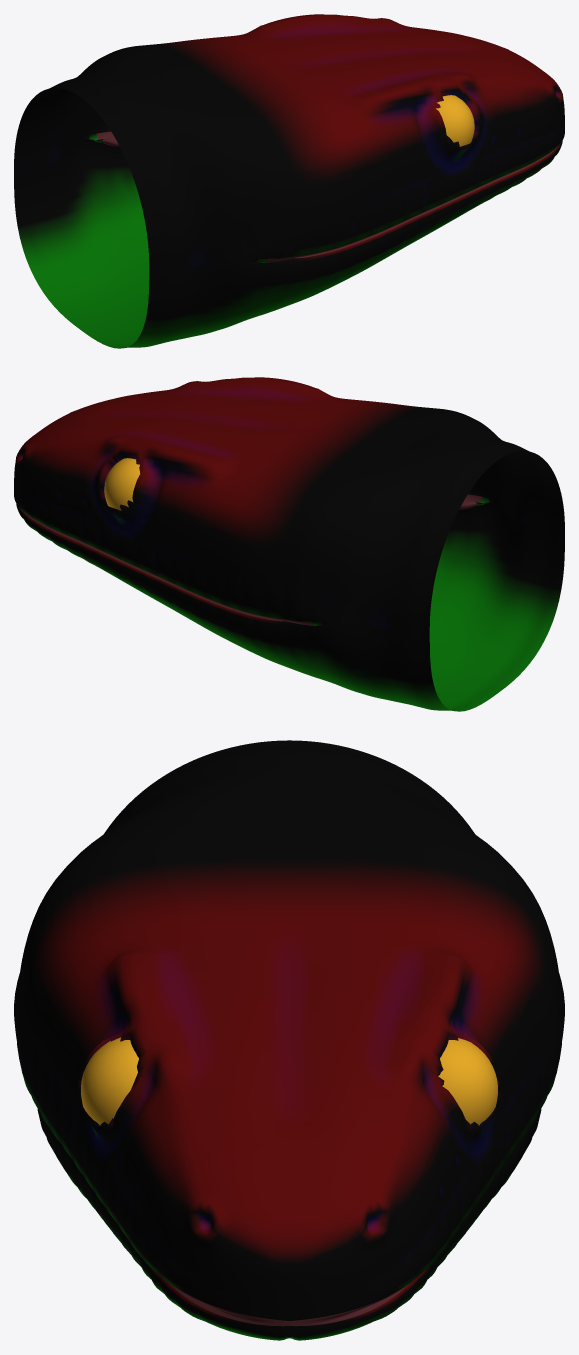
The model's file is SM_SnakeHead.glb.
The picture shows the model from 3 angles, top to bottom: view 1: azimuth 30°, elevation 25°; view 2: azimuth 150°, elevation 25°; view 3: azimuth 270°, elevation 25°; orthographic projection. The views are drawn at different scales.
Visible parts, largest first — view 1: SM_SnakeHead; view 2: SM_SnakeHead; view 3: SM_SnakeHead.
Boxes of the visible parts, x1=… form: SM_SnakeHead: x1=14, y1=14, x2=564, y2=348; SM_SnakeHead: x1=14, y1=377, x2=564, y2=711; SM_SnakeHead: x1=14, y1=740, x2=564, y2=1340.
Bounding box in the file's own units: 1.96 × 0.9477 × 1.25.
